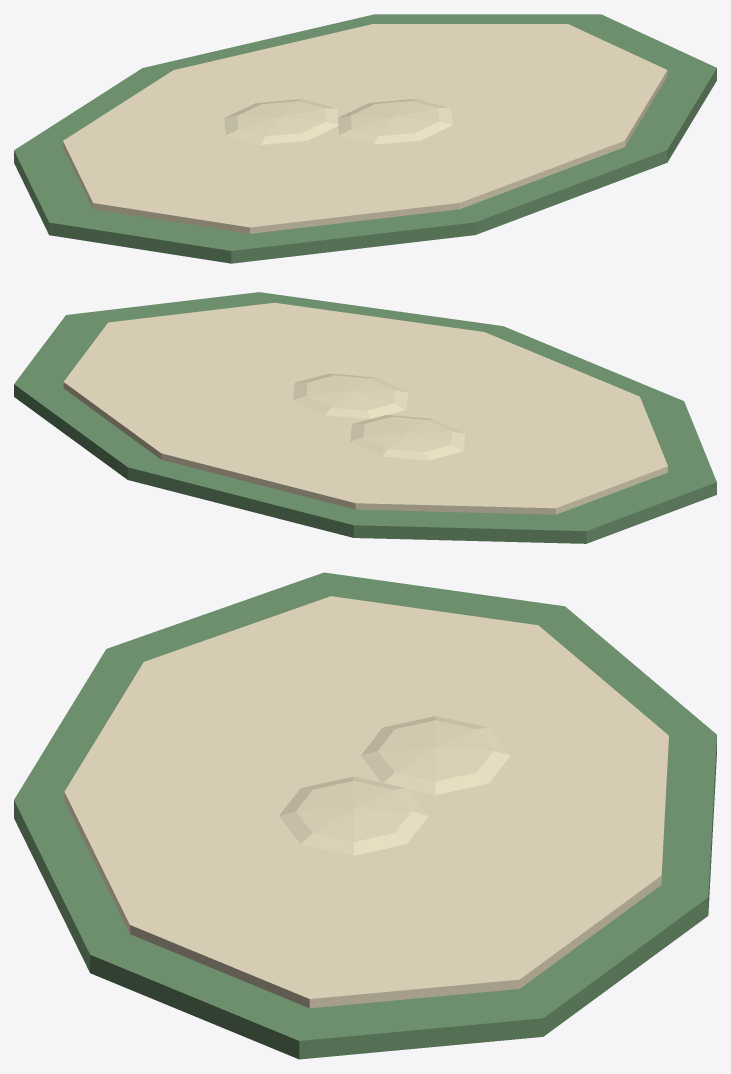
Rendered from golf-course-and-clubhouse-fairway-bunker-9c1221b2__33466.glb.
3 renders of one model, top to bottom at view 1: azimuth 30°, elevation 25°; view 2: azimuth 150°, elevation 25°; view 3: azimuth 270°, elevation 25°, orthographic. The views are drawn at different scales.
Parts seen in each view (by area): view 1: fairway-bunker; view 2: fairway-bunker; view 3: fairway-bunker.
Boxes of the visible parts, <box> form: fairway-bunker: <box>14,14,716,263</box>; fairway-bunker: <box>14,292,716,543</box>; fairway-bunker: <box>14,572,716,1059</box>.
Bounding box in the file's own units: 5.41 × 0.1898 × 3.43.
